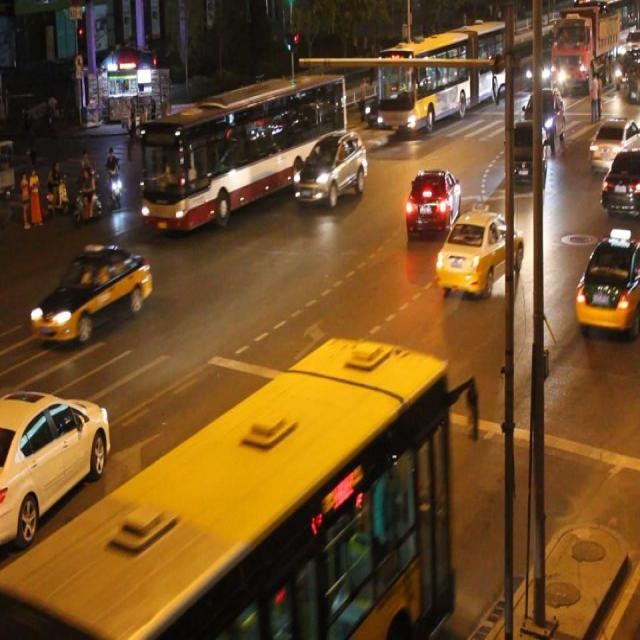car: (1, 388, 110, 541), (29, 244, 154, 340), (435, 211, 521, 294), (574, 235, 640, 327), (293, 132, 366, 205), (404, 164, 459, 239), (598, 148, 640, 216), (505, 118, 544, 191), (588, 119, 640, 173)
van: (0, 338, 452, 640), (143, 78, 344, 226)
